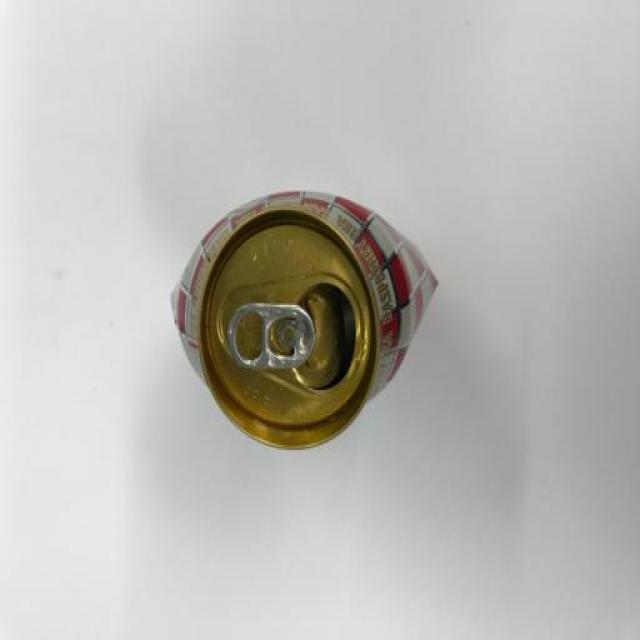metel: (145, 179, 454, 448)
